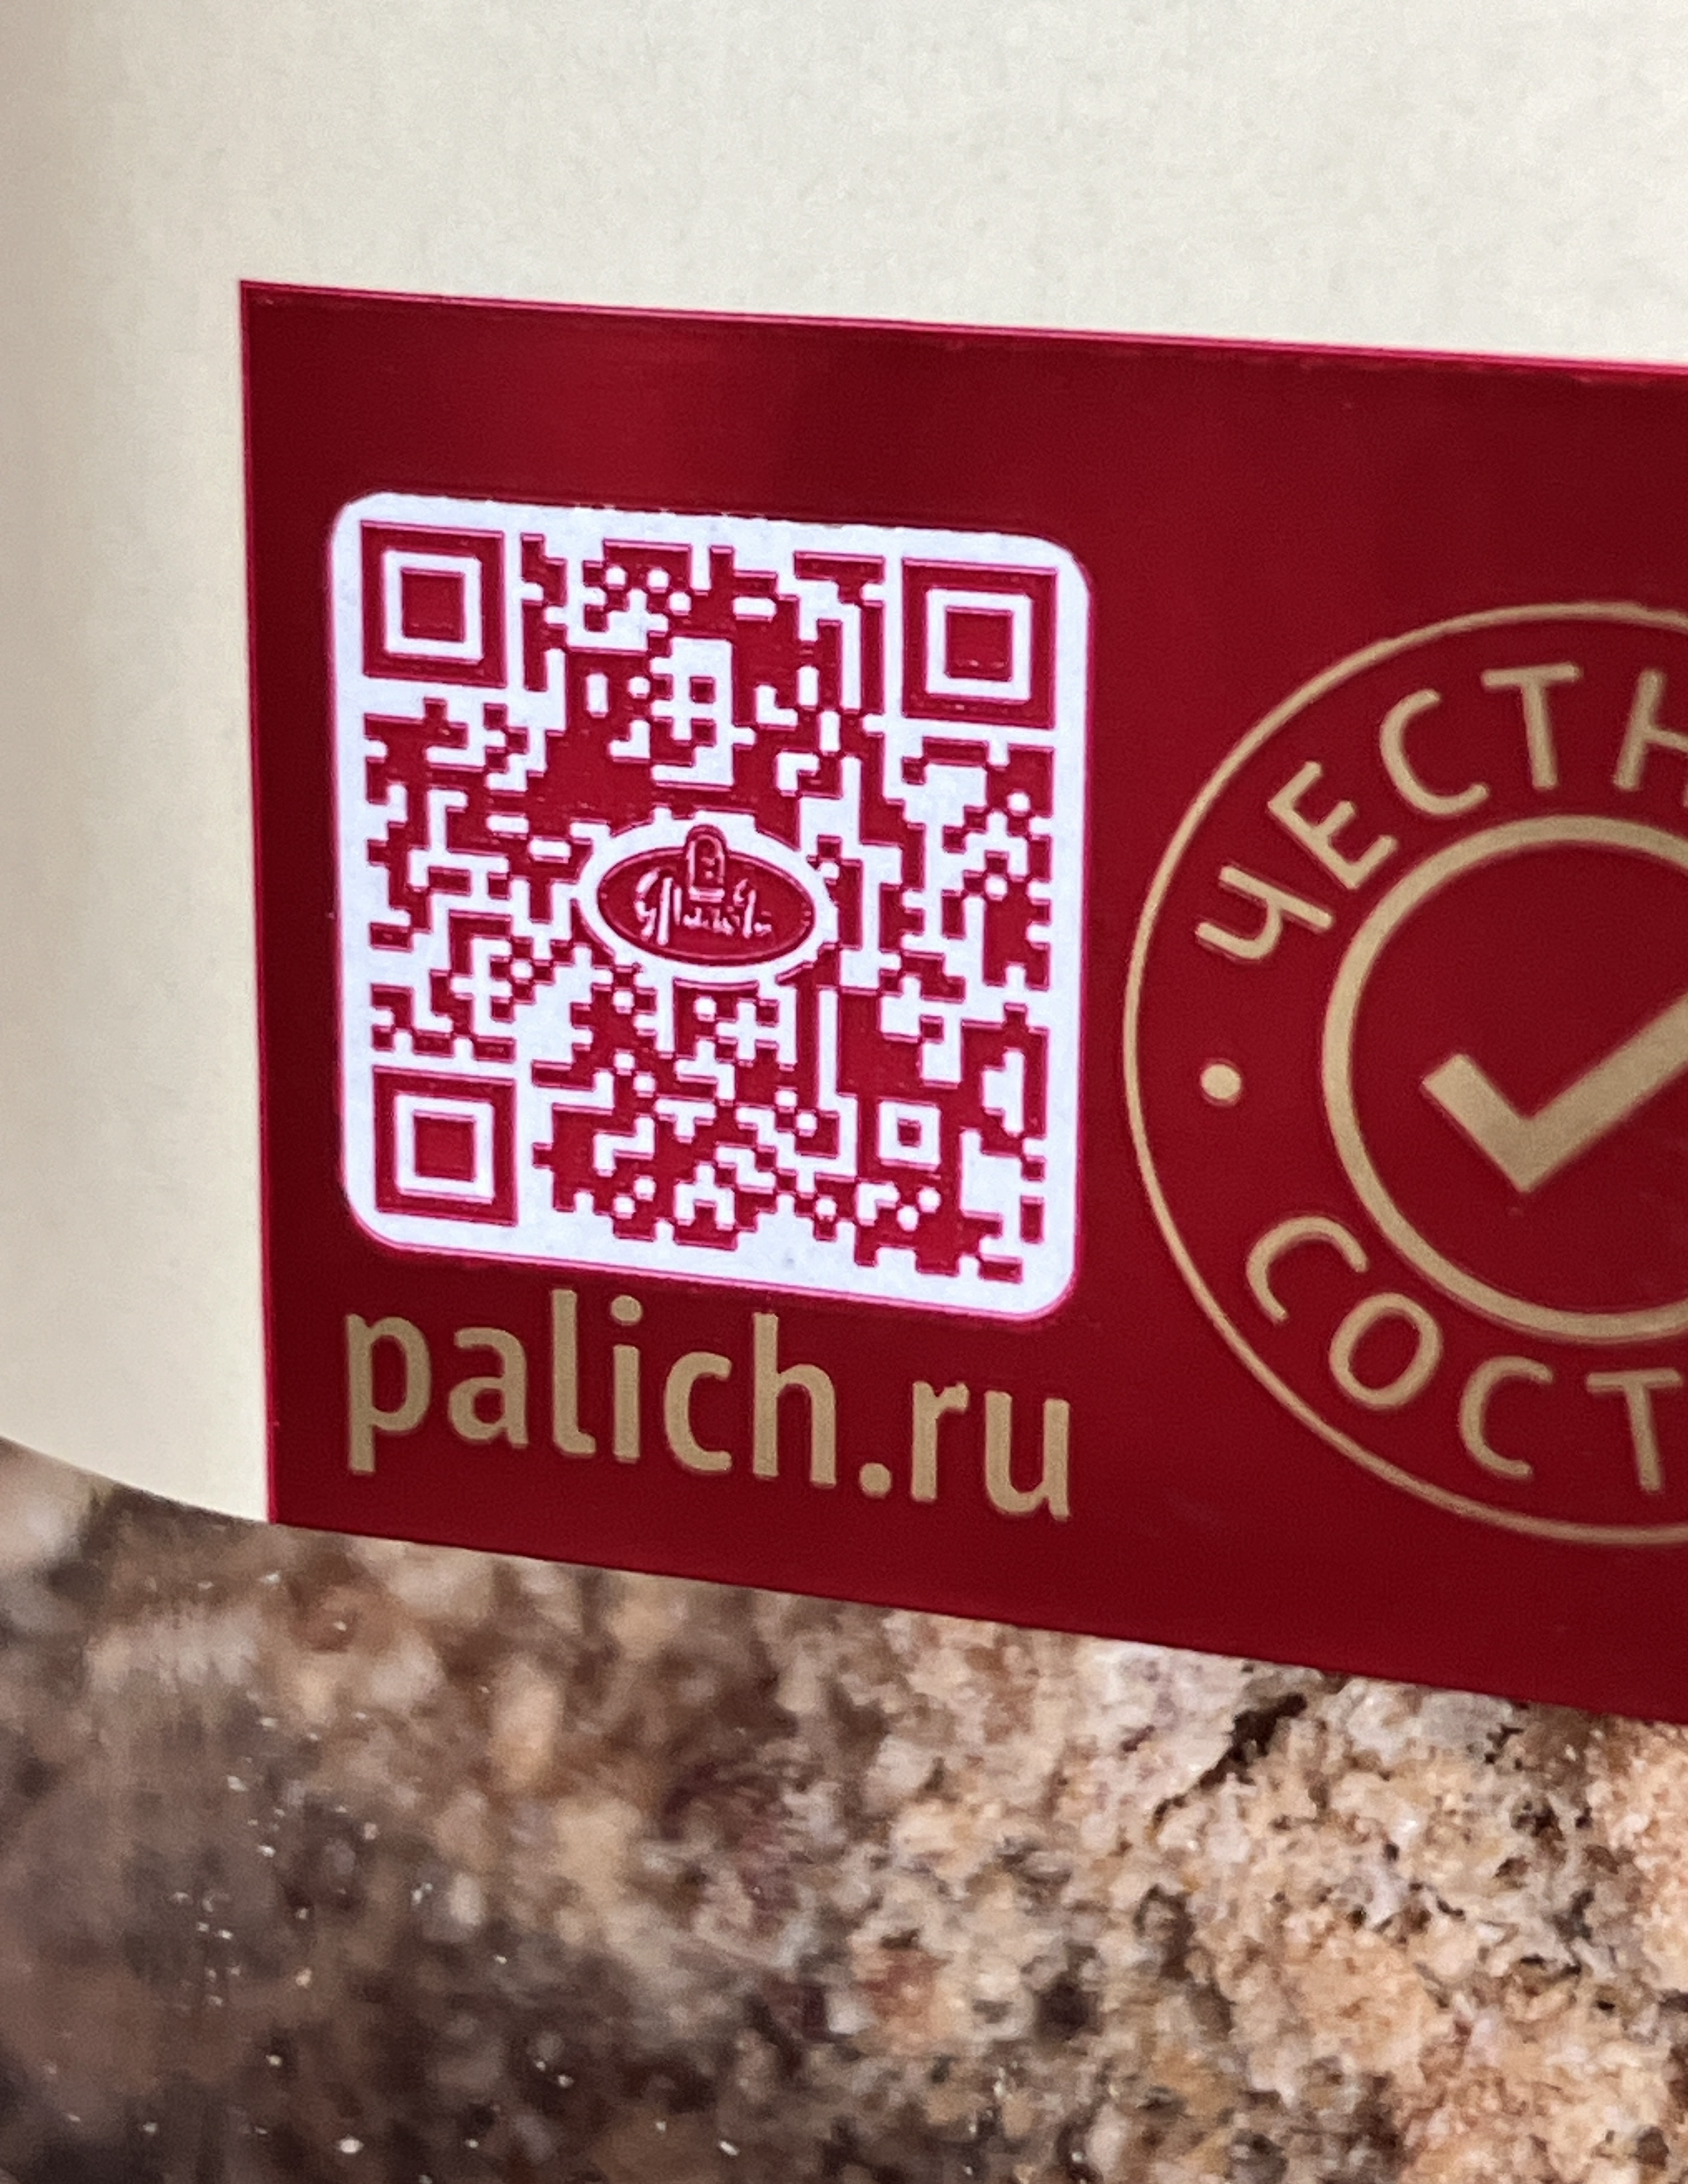2d: (358, 521, 1055, 1283)
